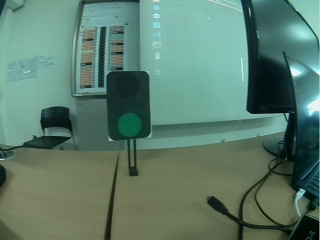green_light: (109, 73, 153, 142)
